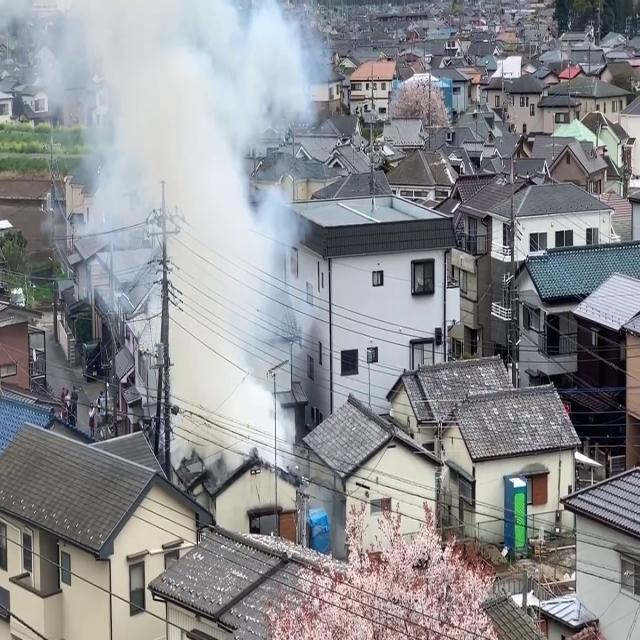Smoke: (39, 0, 326, 484)
